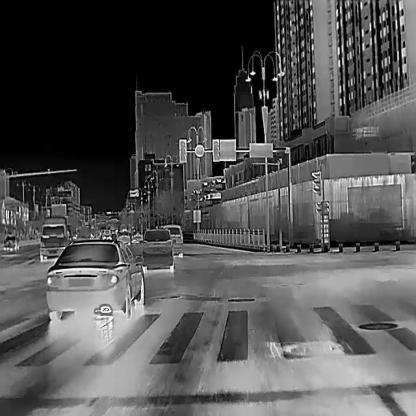car: (46, 238, 145, 320), (41, 216, 76, 258), (142, 228, 175, 272), (162, 224, 183, 258), (2, 233, 19, 249), (103, 229, 111, 238)
